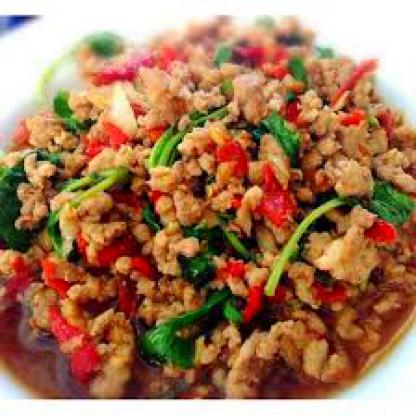Basil Rice: (3, 16, 415, 416)
